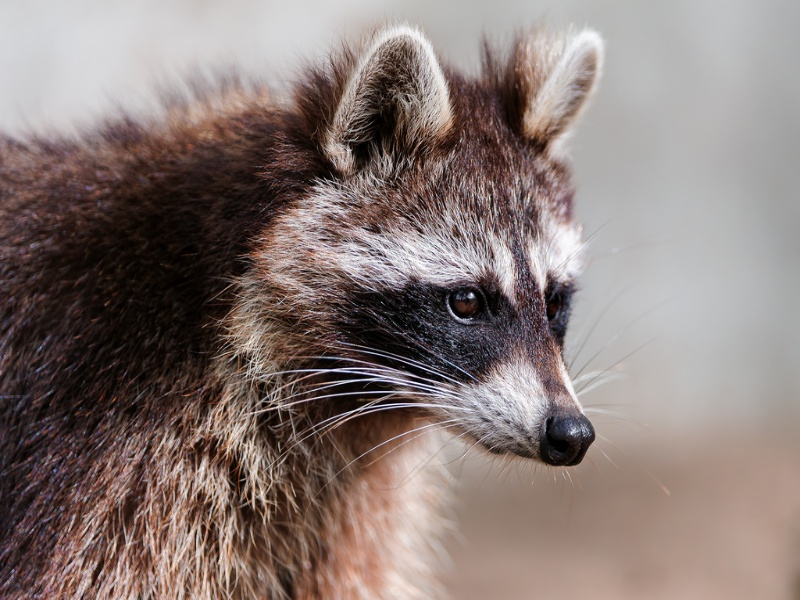raccoon: (16, 18, 604, 589)
